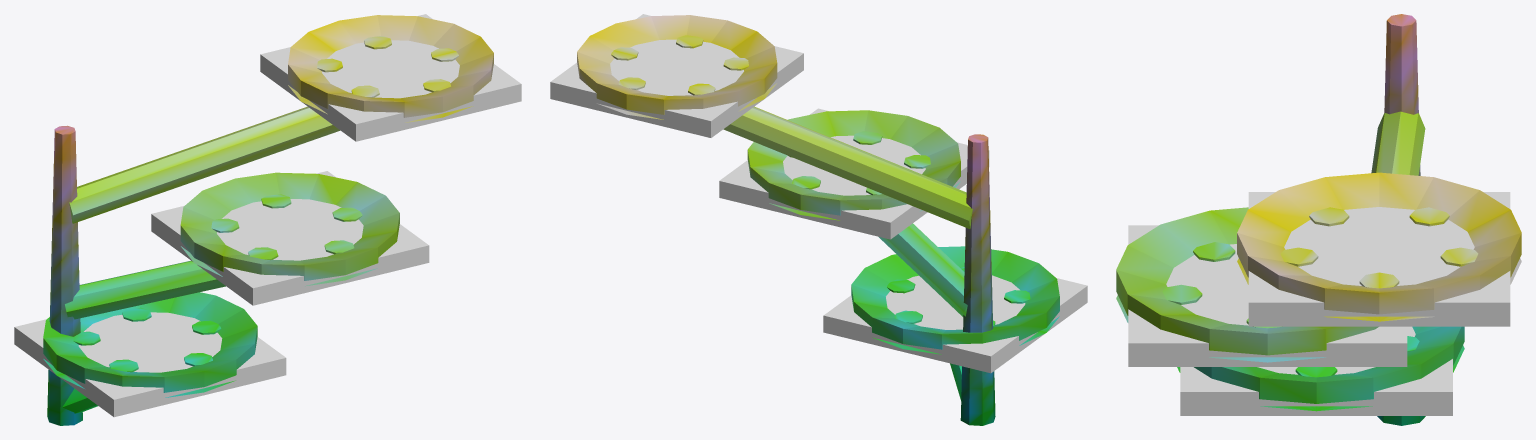
File: Plant_Platform_06.fbx
3 renders of one model, left to right at view 1: azimuth 30°, elevation 25°; view 2: azimuth 150°, elevation 25°; view 3: azimuth 270°, elevation 25°, orthographic. The views are drawn at different scales.
Parts seen in each view (by area): view 1: Plant_Platform_06, COL_06_1, COL_06_0, COL_06_2; view 2: Plant_Platform_06, COL_06_2, COL_06_0, COL_06_1; view 3: Plant_Platform_06, COL_06_2, COL_06_1, COL_06_0.
Part boxes in pixels (box(x1,y1,x2,y2)): Plant_Platform_06: box(43, 15, 493, 425); COL_06_1: box(151, 171, 429, 305); COL_06_0: box(14, 312, 286, 417); COL_06_2: box(260, 14, 521, 141); Plant_Platform_06: box(577, 15, 1059, 425); COL_06_2: box(550, 14, 803, 137); COL_06_0: box(823, 275, 1087, 373); COL_06_1: box(719, 108, 989, 239); Plant_Platform_06: box(1116, 14, 1521, 425); COL_06_2: box(1248, 192, 1510, 326); COL_06_1: box(1128, 225, 1407, 366); COL_06_0: box(1180, 326, 1452, 415).
Bounding box in the file's own units: 5.36 × 3.3 × 3.07.
